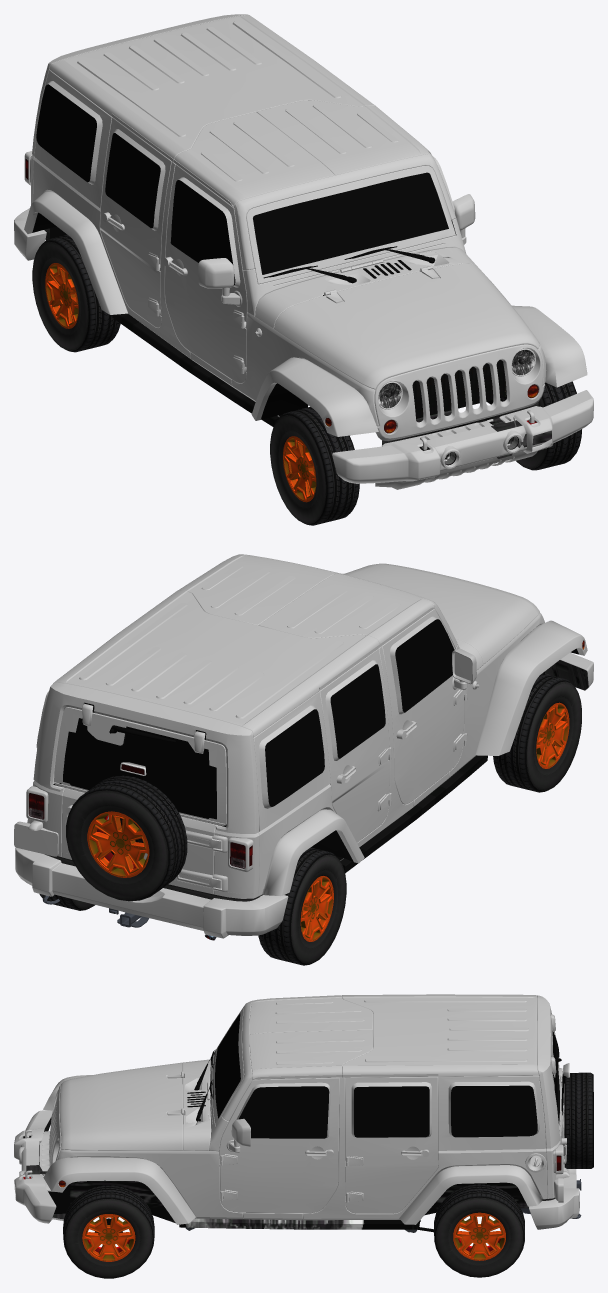
Rendered from jeep 1.fbx.
3 views of the same model, one above another, from view 1: azimuth 30°, elevation 25°; view 2: azimuth 150°, elevation 25°; view 3: azimuth 270°, elevation 25° (orthographic). The views are drawn at different scales.
Visible parts, largest first — view 1: Jeep.009, jeep mirror, Jeep.008, Jeep.035, Jeep.033, Jeep.007, Jeep.006, Jeep.005, Jeep.037, Jeep.034, Jeep.036; view 2: Jeep.009, jeep mirror, Jeep.008, Jeep.039, Jeep.035, Jeep.033, Jeep.040, Jeep.006, Jeep.005, Jeep.036, Jeep.034, Jeep.007 (+1 smaller); view 3: Jeep.009, jeep mirror, Jeep.008, Jeep.037, Jeep.031, Jeep.006, Jeep.005, Jeep.039, Jeep.038, Jeep.032.
Part boxes in pixels (box(x1,y1,x2,y2)): Jeep.009: box(24, 14, 587, 440); jeep mirror: box(36, 84, 456, 284); Jeep.008: box(14, 151, 593, 489); Jeep.035: box(270, 406, 359, 525); Jeep.033: box(32, 234, 120, 352); Jeep.007: box(25, 159, 538, 465); Jeep.006: box(112, 246, 536, 450); Jeep.005: box(32, 212, 551, 460); Jeep.037: box(516, 381, 581, 470); Jeep.034: box(45, 263, 78, 328); Jeep.036: box(283, 436, 316, 502); Jeep.009: box(27, 554, 587, 898); jeep mirror: box(53, 619, 454, 826); Jeep.008: box(14, 648, 593, 938); Jeep.039: box(66, 775, 187, 901); Jeep.035: box(493, 673, 581, 792); Jeep.033: box(258, 847, 346, 965); Jeep.040: box(87, 811, 149, 877); Jeep.006: box(84, 702, 487, 940); Jeep.005: box(42, 648, 588, 940); Jeep.036: box(536, 702, 569, 768); Jeep.034: box(300, 876, 333, 941); Jeep.007: box(28, 640, 584, 868); Jeep.009: box(43, 994, 563, 1224); jeep mirror: box(215, 1013, 558, 1138); Jeep.008: box(14, 1008, 579, 1229); Jeep.037: box(63, 1185, 154, 1278); Jeep.031: box(434, 1184, 524, 1277); Jeep.006: box(23, 1035, 566, 1229); Jeep.005: box(26, 1031, 581, 1232); Jeep.039: box(564, 1072, 593, 1168); Jeep.038: box(82, 1214, 135, 1261); Jeep.032: box(453, 1212, 505, 1260).
Size of the model in its own units: 155 by 140 by 363.
